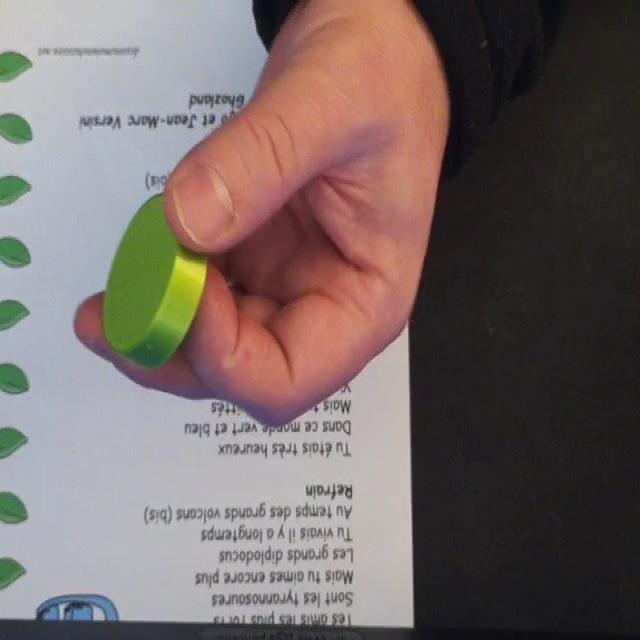round: (103, 190, 210, 369)
